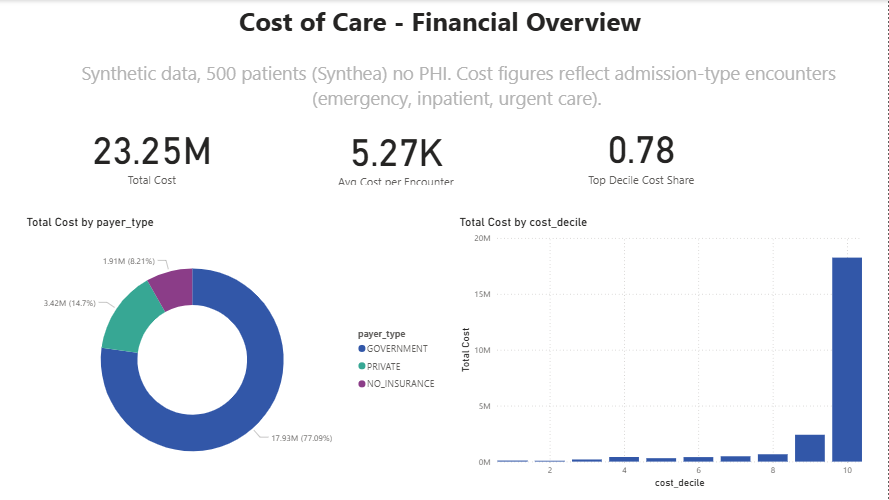

Layout of this report page (visuals, bound fields, positions):
{"tool":"powerbi","page":{"name":"Cost","canvas":[1280,720],"ordinal":2},"visuals":[{"type":"card","fields":{"Values":["fact_encounters.Total Cost"]},"box":[68.9,168,299,104.1],"z":0},{"type":"card","fields":{"Values":["fact_encounters.Avg Cost per Encounter"]},"box":[419.9,174.7,299,97.4],"z":1000},{"type":"card","fields":{"Values":["fact_encounters.Top Decile Cost Share"]},"box":[764.3,162.9,317.5,114.2],"z":2000},{"type":"donutChart","fields":{"Category":["fact_encounters.payer_type"],"Y":["fact_encounters.Total Cost"]},"box":[33.6,309.1,606.4,398.1],"z":3000},{"type":"clusteredColumnChart","fields":{"Category":["fact_encounters.cost_decile"],"Y":["fact_encounters.Total Cost"]},"box":[656.8,309.1,589.6,398.1],"z":4000},{"type":"textbox","box":[68.9,0,1128.8,80.6],"z":5000},{"type":"textbox","box":[68.9,80.6,1177.5,110.9],"z":6000}]}

Visuals, with their boxes in screenshot pixels (x1, y1, x2, y2), scaled from the page's 1280x720 canvas onto the 889x500 screenshot:
card - fact_encounters.Total Cost: 48 117 256 189
card - fact_encounters.Avg Cost per Encounter: 292 121 499 189
card - fact_encounters.Top Decile Cost Share: 531 113 751 192
donutChart - fact_encounters.payer_type x fact_encounters.Total Cost: 23 215 444 491
clusteredColumnChart - fact_encounters.cost_decile x fact_encounters.Total Cost: 456 215 866 491
textbox: 48 0 832 56
textbox: 48 56 866 133
